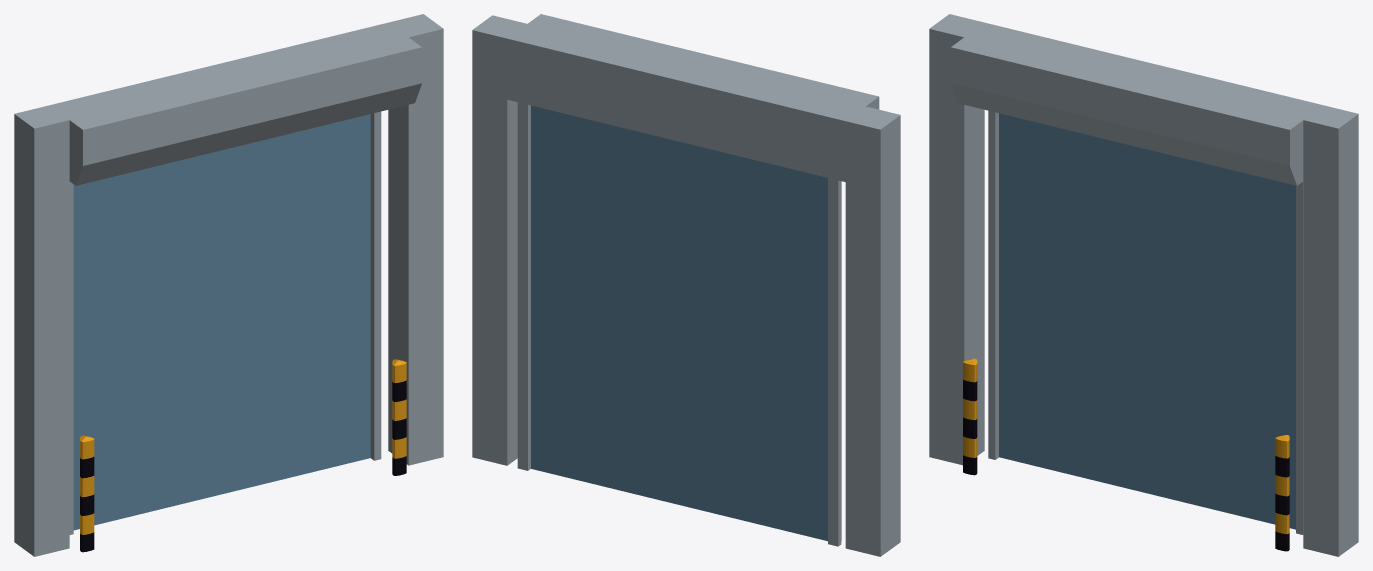
The model's file is roller_door.fbx.
The picture shows the model from 3 angles, left to right: view 1: azimuth 30°, elevation 25°; view 2: azimuth 150°, elevation 25°; view 3: azimuth 330°, elevation 25°; orthographic projection.
Visible parts, largest first — view 1: Shutter, Door_Frame; view 2: Shutter, Door_Frame; view 3: Shutter, Door_Frame.
Boxes of the visible parts, x1=… form: Shutter: x1=73, y1=114, x2=370, y2=530; Door_Frame: x1=14, y1=14, x2=443, y2=556; Shutter: x1=531, y1=105, x2=827, y2=541; Door_Frame: x1=472, y1=14, x2=900, y2=556; Shutter: x1=999, y1=113, x2=1295, y2=529; Door_Frame: x1=929, y1=14, x2=1358, y2=556.
Size of the model in its own units: 3.5 by 3.5 by 0.5.
